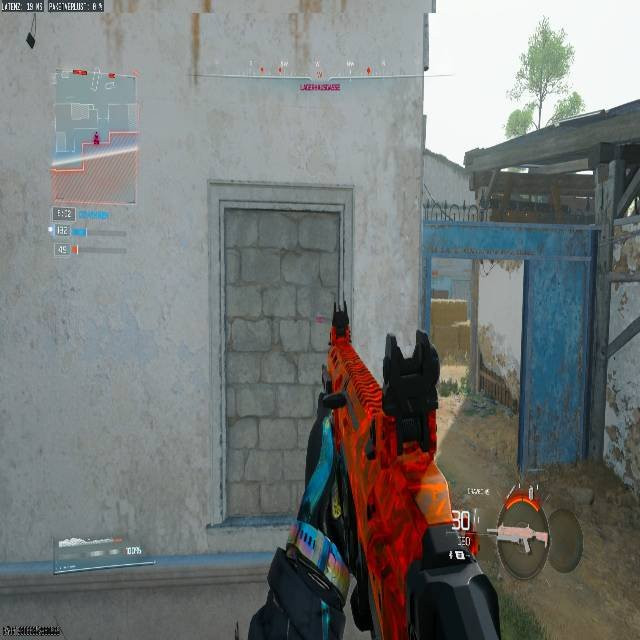player: (382, 330, 441, 463)
